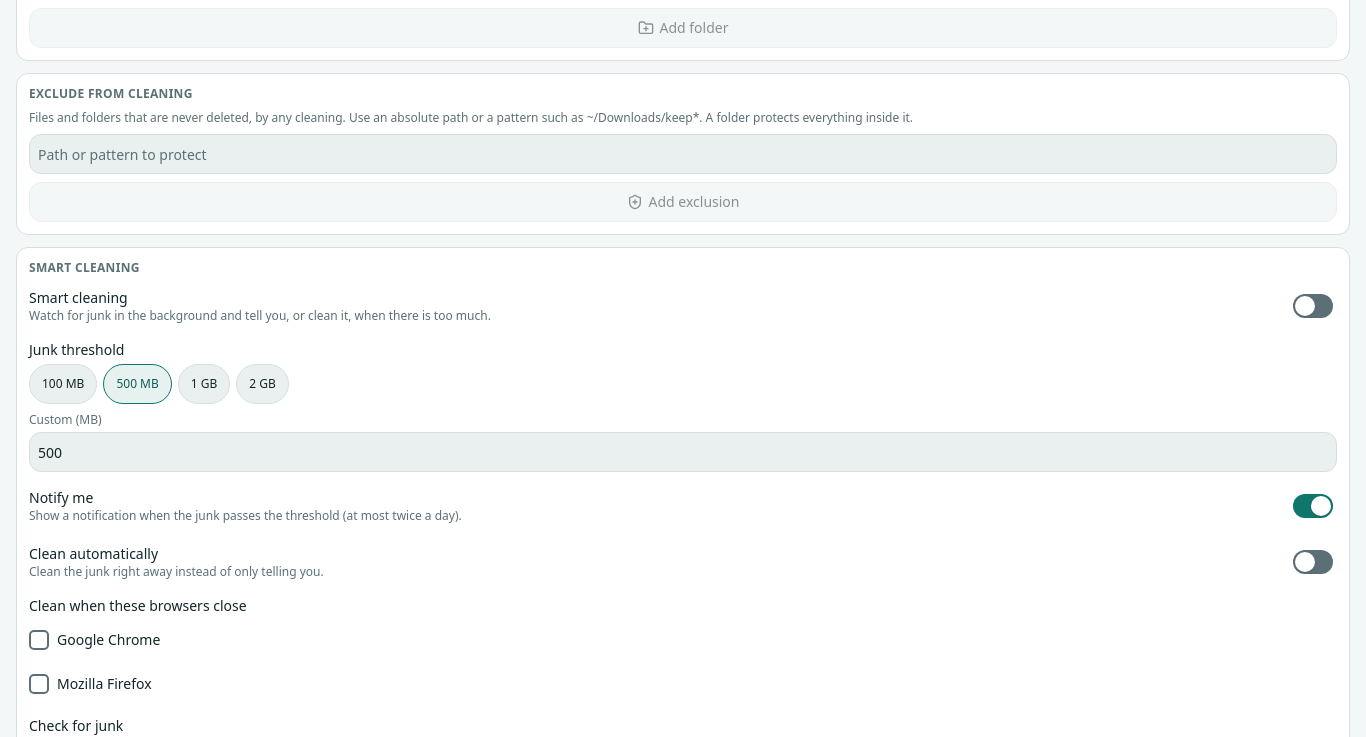
Test: Smart Cleaning section › threshold presets and a validated custom value
(page scrolled)
expect the button with test id "smart-threshold-1000" reads "1 GB": met, box [178,364,230,404]
Click the button with test id "smart-threshold-2000".
click(263, 384)  # box [236,364,289,404]
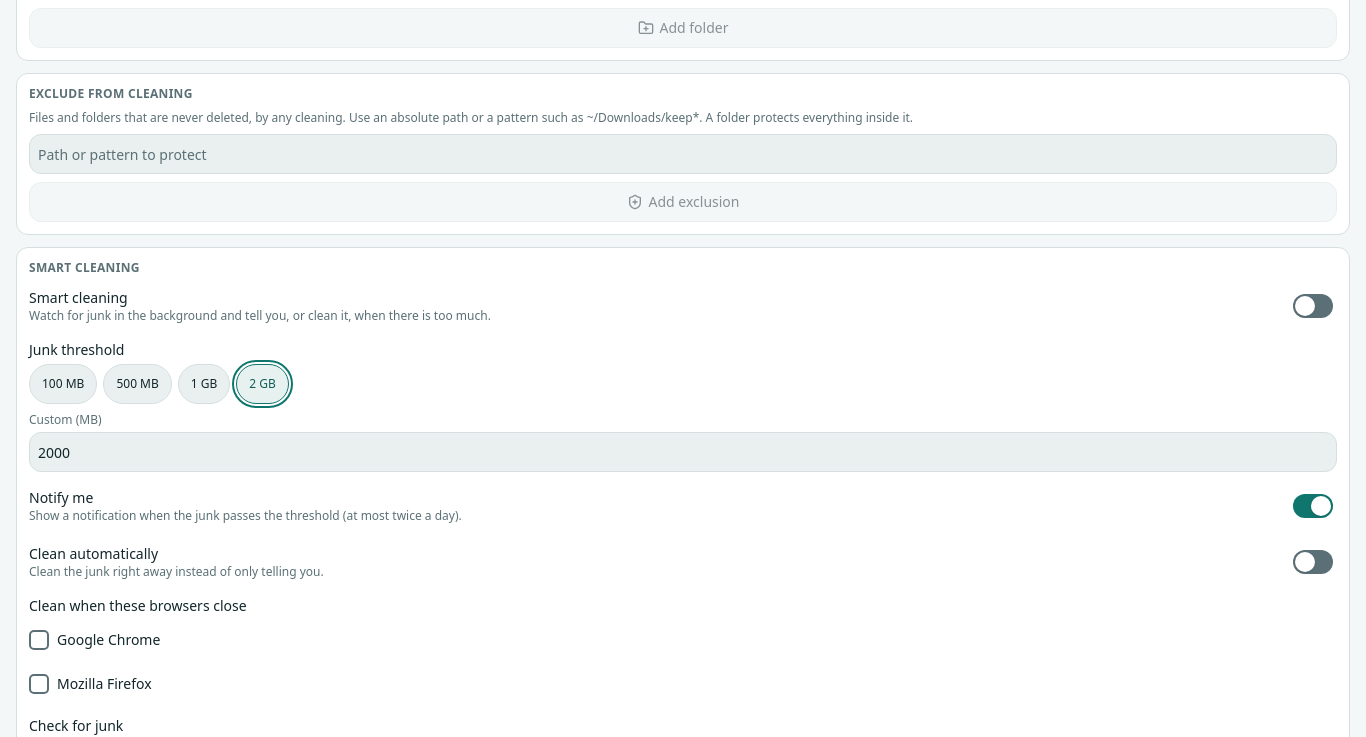
expect the number field with test id "smart-threshold-custom" holds "2000": met
Replace the text in the number field with test id "smart-threshold-custom" with "0" at (683, 452), box [29,432,1337,472]
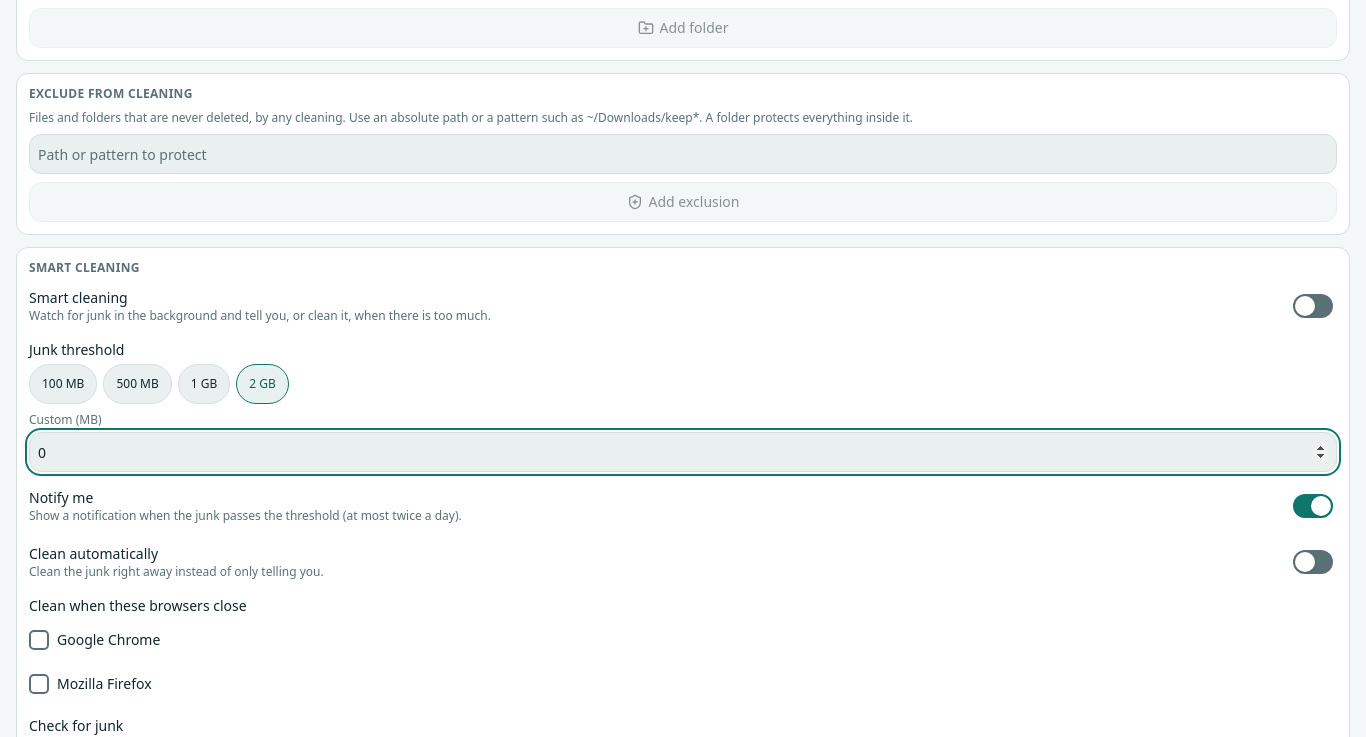
Press Tab
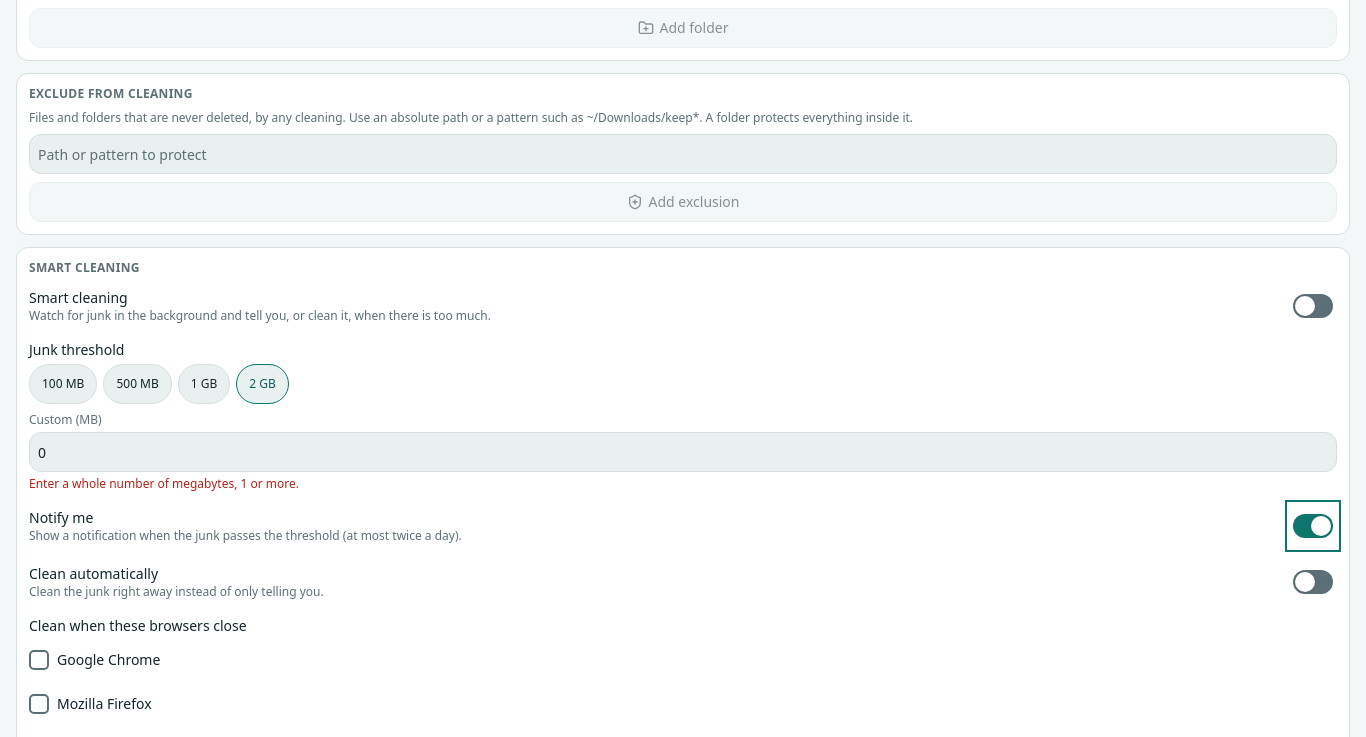
expect the message with test id "smart-threshold-error" shows "whole number of megabytes": met, box [29,475,299,492]
Replace the text in the number field with test id "smart-threshold-custom" with "750" at (683, 452), box [29,432,1337,472]
Then press Enter
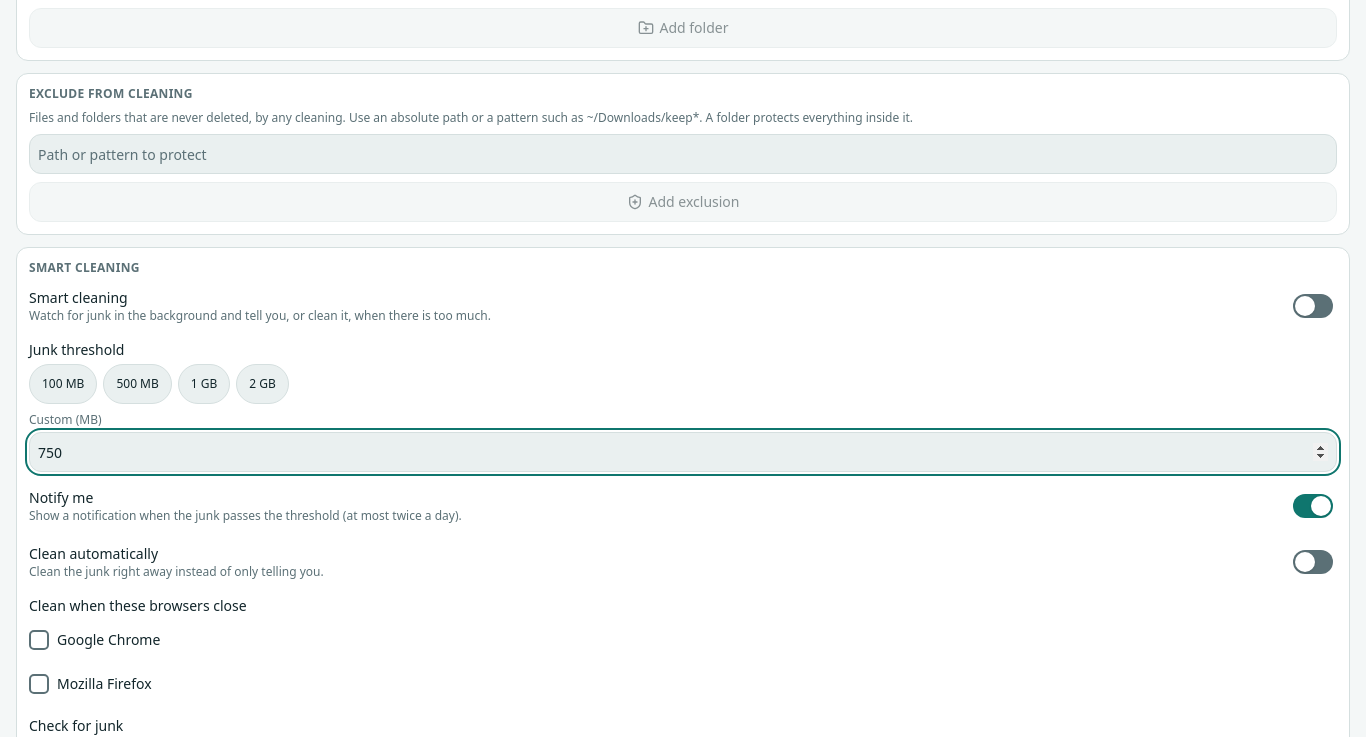
expect the message with test id "smart-threshold-error" is gone: met
